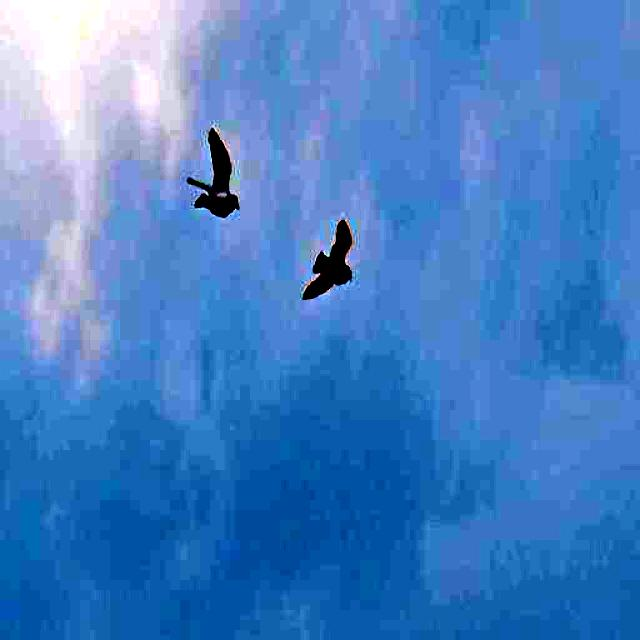airplane: (189, 131, 252, 244), (298, 208, 355, 312)
